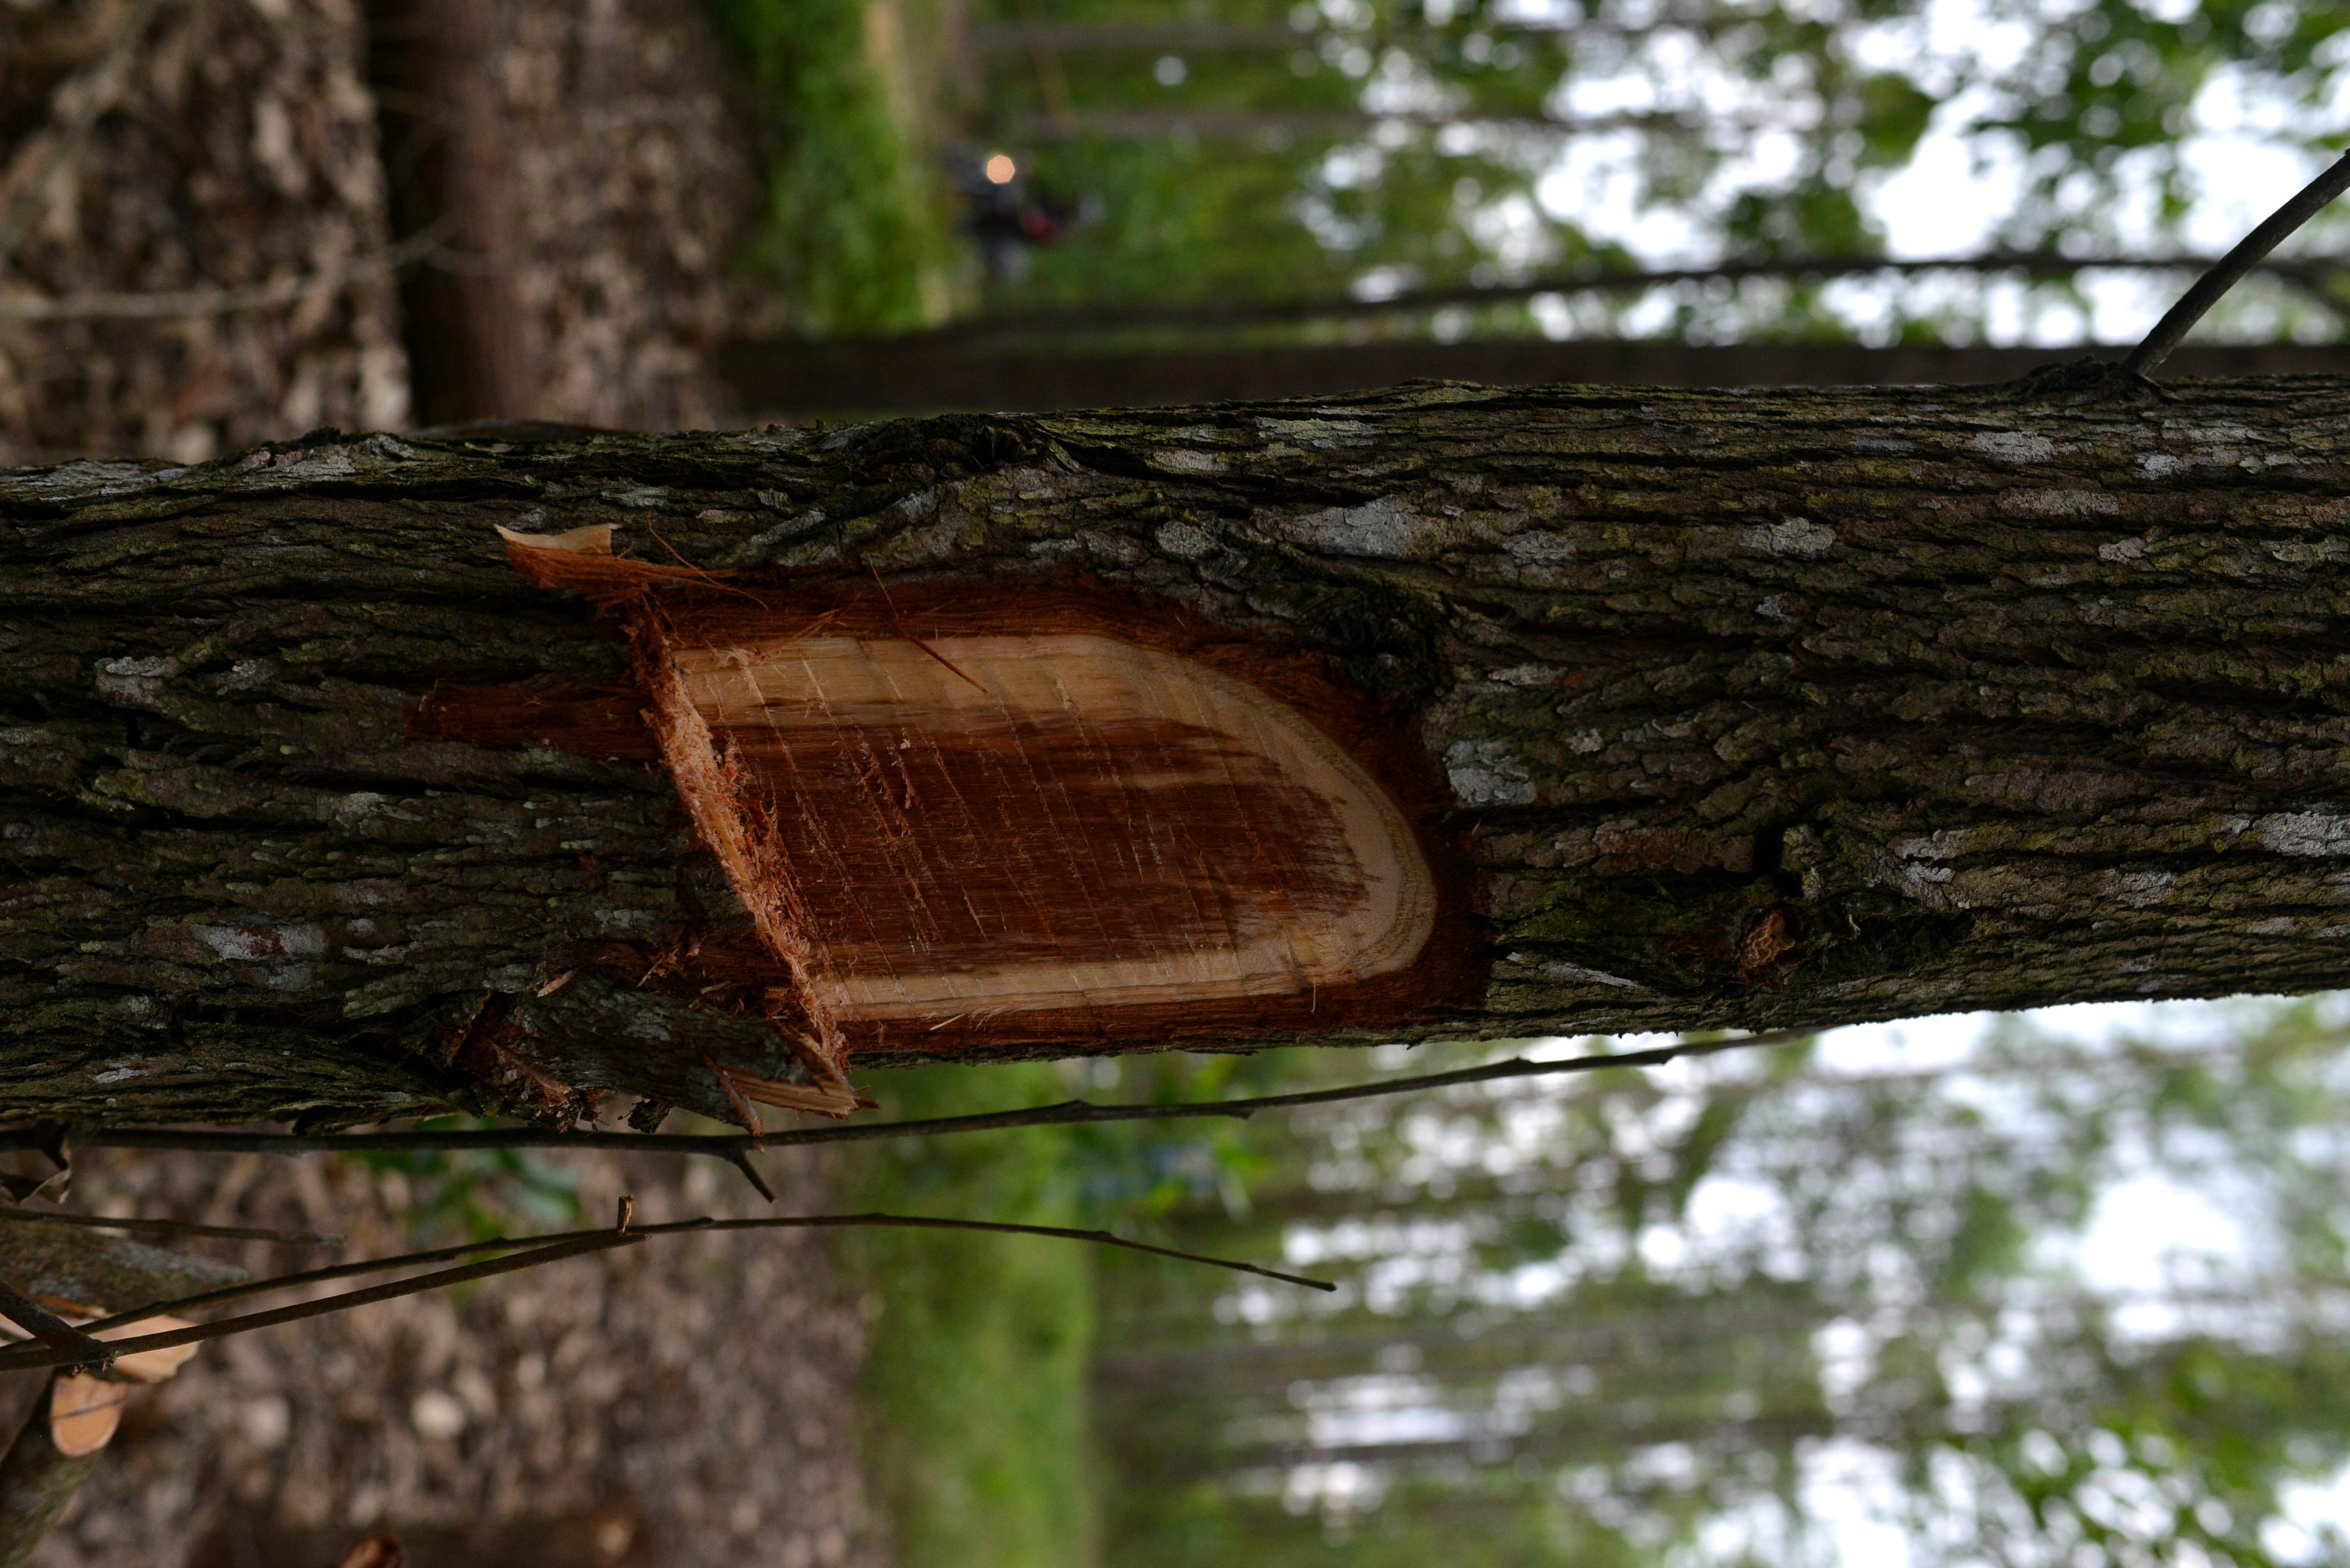Ceratocystis - Inner: (688, 581, 1484, 1048)
